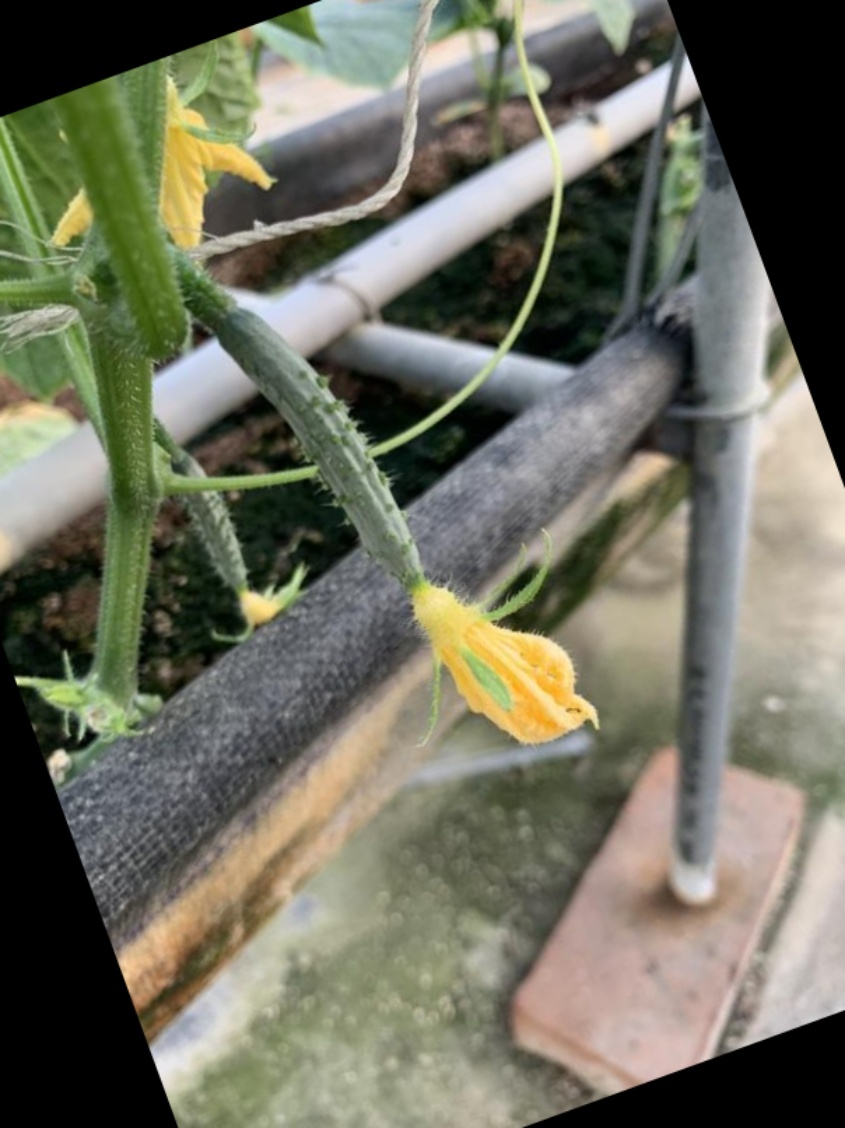bear: (208, 297, 570, 737)
